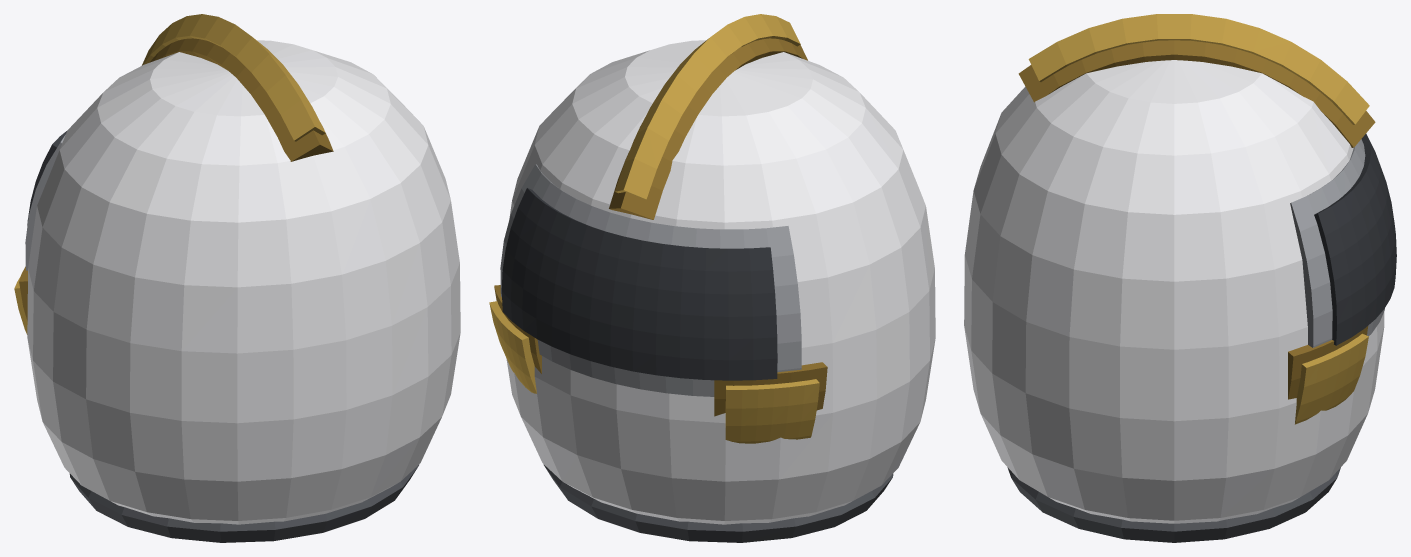
The model's file is person_hat_vge_prestige_vacsuit_helmet.obj.
3 renders of one model, left to right at view 1: azimuth 30°, elevation 25°; view 2: azimuth 150°, elevation 25°; view 3: azimuth 270°, elevation 25°, orthographic. The views are drawn at different scales.
Parts seen in each view (by area): view 1: person_hat_vge_prestige_vacsuit_helmet; view 2: person_hat_vge_prestige_vacsuit_helmet; view 3: person_hat_vge_prestige_vacsuit_helmet.
Part boxes in pixels (left/top/right/bottom): person_hat_vge_prestige_vacsuit_helmet: left=14, top=14, right=460, bottom=542; person_hat_vge_prestige_vacsuit_helmet: left=489, top=14, right=935, bottom=542; person_hat_vge_prestige_vacsuit_helmet: left=964, top=14, right=1396, bottom=542.
Bounding box in the file's own units: 0.576 × 0.6399 × 0.5514.
